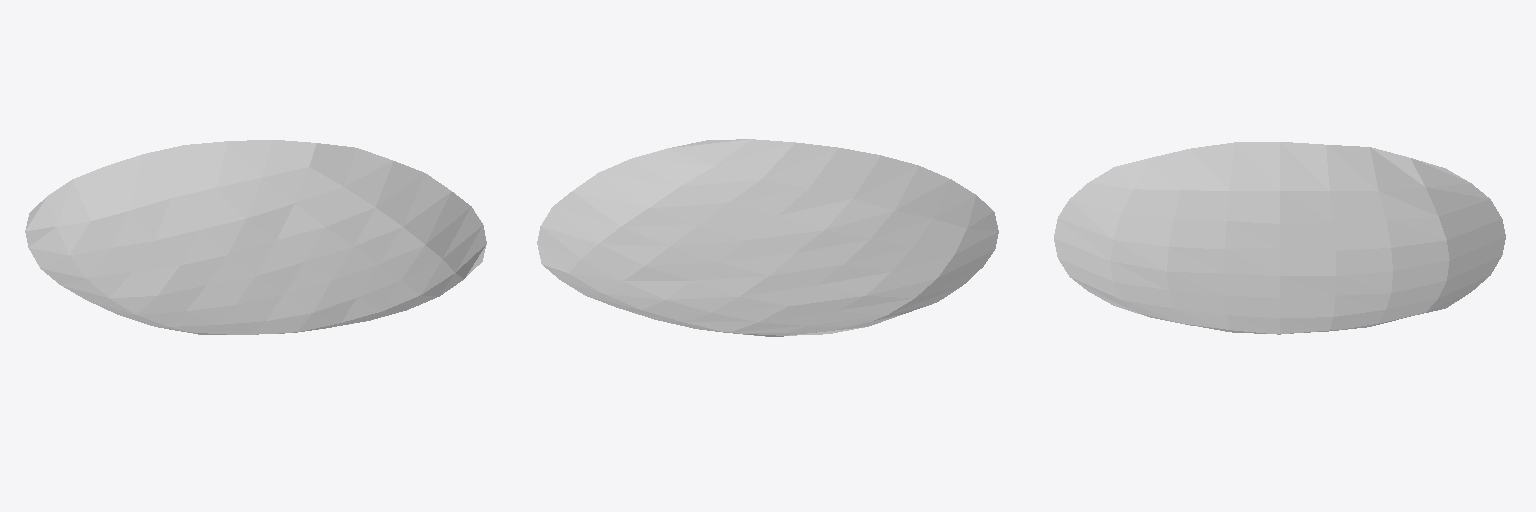
The picture shows the model from 3 angles: view 1: azimuth 30°, elevation 25°; view 2: azimuth 150°, elevation 25°; view 3: azimuth 270°, elevation 25°; orthographic projection.
Parts seen in each view (by area): view 1: DirtCircle; view 2: DirtCircle; view 3: DirtCircle.
Boxes of the visible parts, <box> form: DirtCircle: <box>25,140,486,334</box>; DirtCircle: <box>537,139,998,336</box>; DirtCircle: <box>1054,142,1505,334</box>.
Bounding box in the file's own units: 36.26 × 3.58 × 36.26.